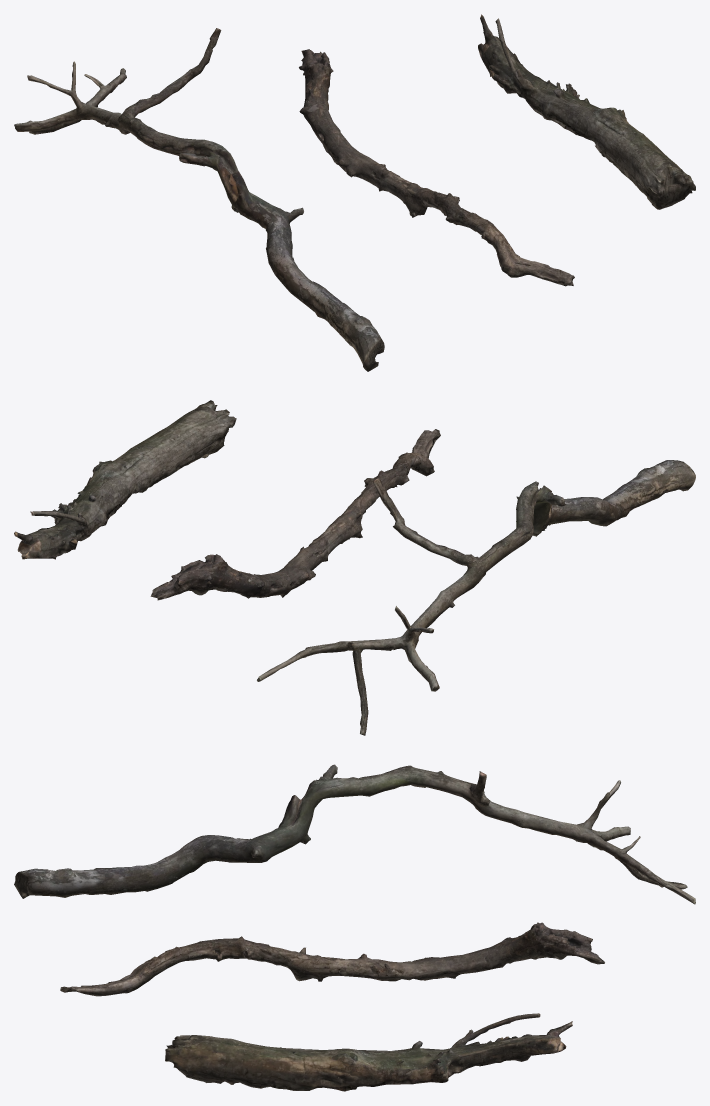
The model's file is branches.glb.
The picture shows the model from 3 angles, top to bottom: view 1: azimuth 30°, elevation 25°; view 2: azimuth 150°, elevation 25°; view 3: azimuth 270°, elevation 25°; orthographic projection. The views are drawn at different scales.
Parts seen in each view (by area): view 1: dry_branches_medium_01_a, dry_branches_medium_01_c, dry_branches_medium_01_b; view 2: dry_branches_medium_01_a, dry_branches_medium_01_c, dry_branches_medium_01_b; view 3: dry_branches_medium_01_a, dry_branches_medium_01_c, dry_branches_medium_01_b.
Boxes of the visible parts, x1,y1,x2,y2 form: dry_branches_medium_01_a: (14, 28, 384, 371); dry_branches_medium_01_c: (478, 14, 695, 209); dry_branches_medium_01_b: (299, 49, 574, 286); dry_branches_medium_01_a: (257, 460, 695, 735); dry_branches_medium_01_c: (14, 400, 236, 559); dry_branches_medium_01_b: (150, 429, 440, 600); dry_branches_medium_01_a: (14, 764, 695, 904); dry_branches_medium_01_c: (165, 1013, 572, 1091); dry_branches_medium_01_b: (60, 922, 604, 996).
Bounding box in the file's own units: 1.06 × 0.341 × 1.3.
1 material, 1 textured.
